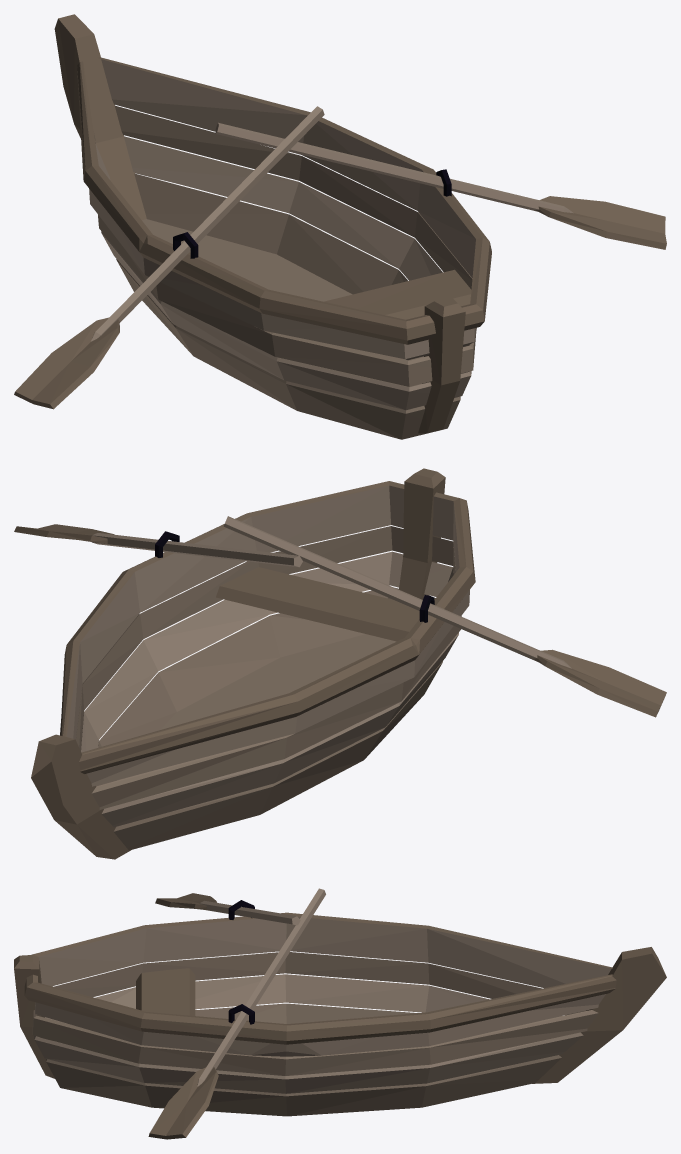
File: boat.glb
The picture shows the model from 3 angles, top to bottom: view 1: azimuth 30°, elevation 25°; view 2: azimuth 150°, elevation 25°; view 3: azimuth 270°, elevation 25°; orthographic projection. The views are drawn at different scales.
Parts seen in each view (by area): view 1: boat; view 2: boat; view 3: boat.
Boxes of the visible parts, left/top/right/bottom form: boat: left=14, top=14, right=666, bottom=439; boat: left=14, top=468, right=666, bottom=859; boat: left=14, top=888, right=666, bottom=1139.
Bounding box in the file's own units: 2.26 × 0.7217 × 2.4.
1 material, 1 textured.
